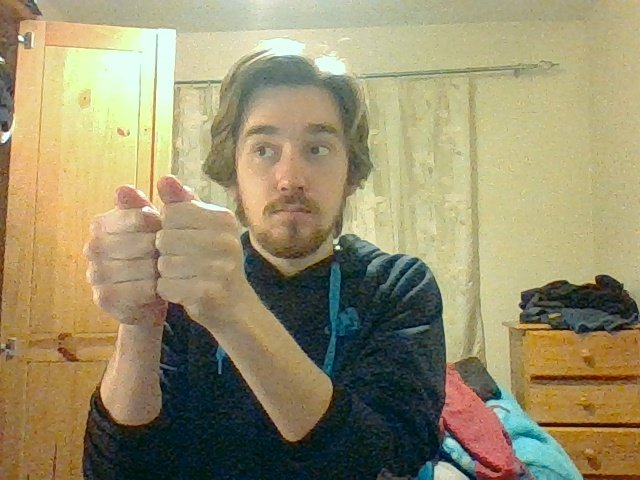brother: (83, 175, 242, 310)
